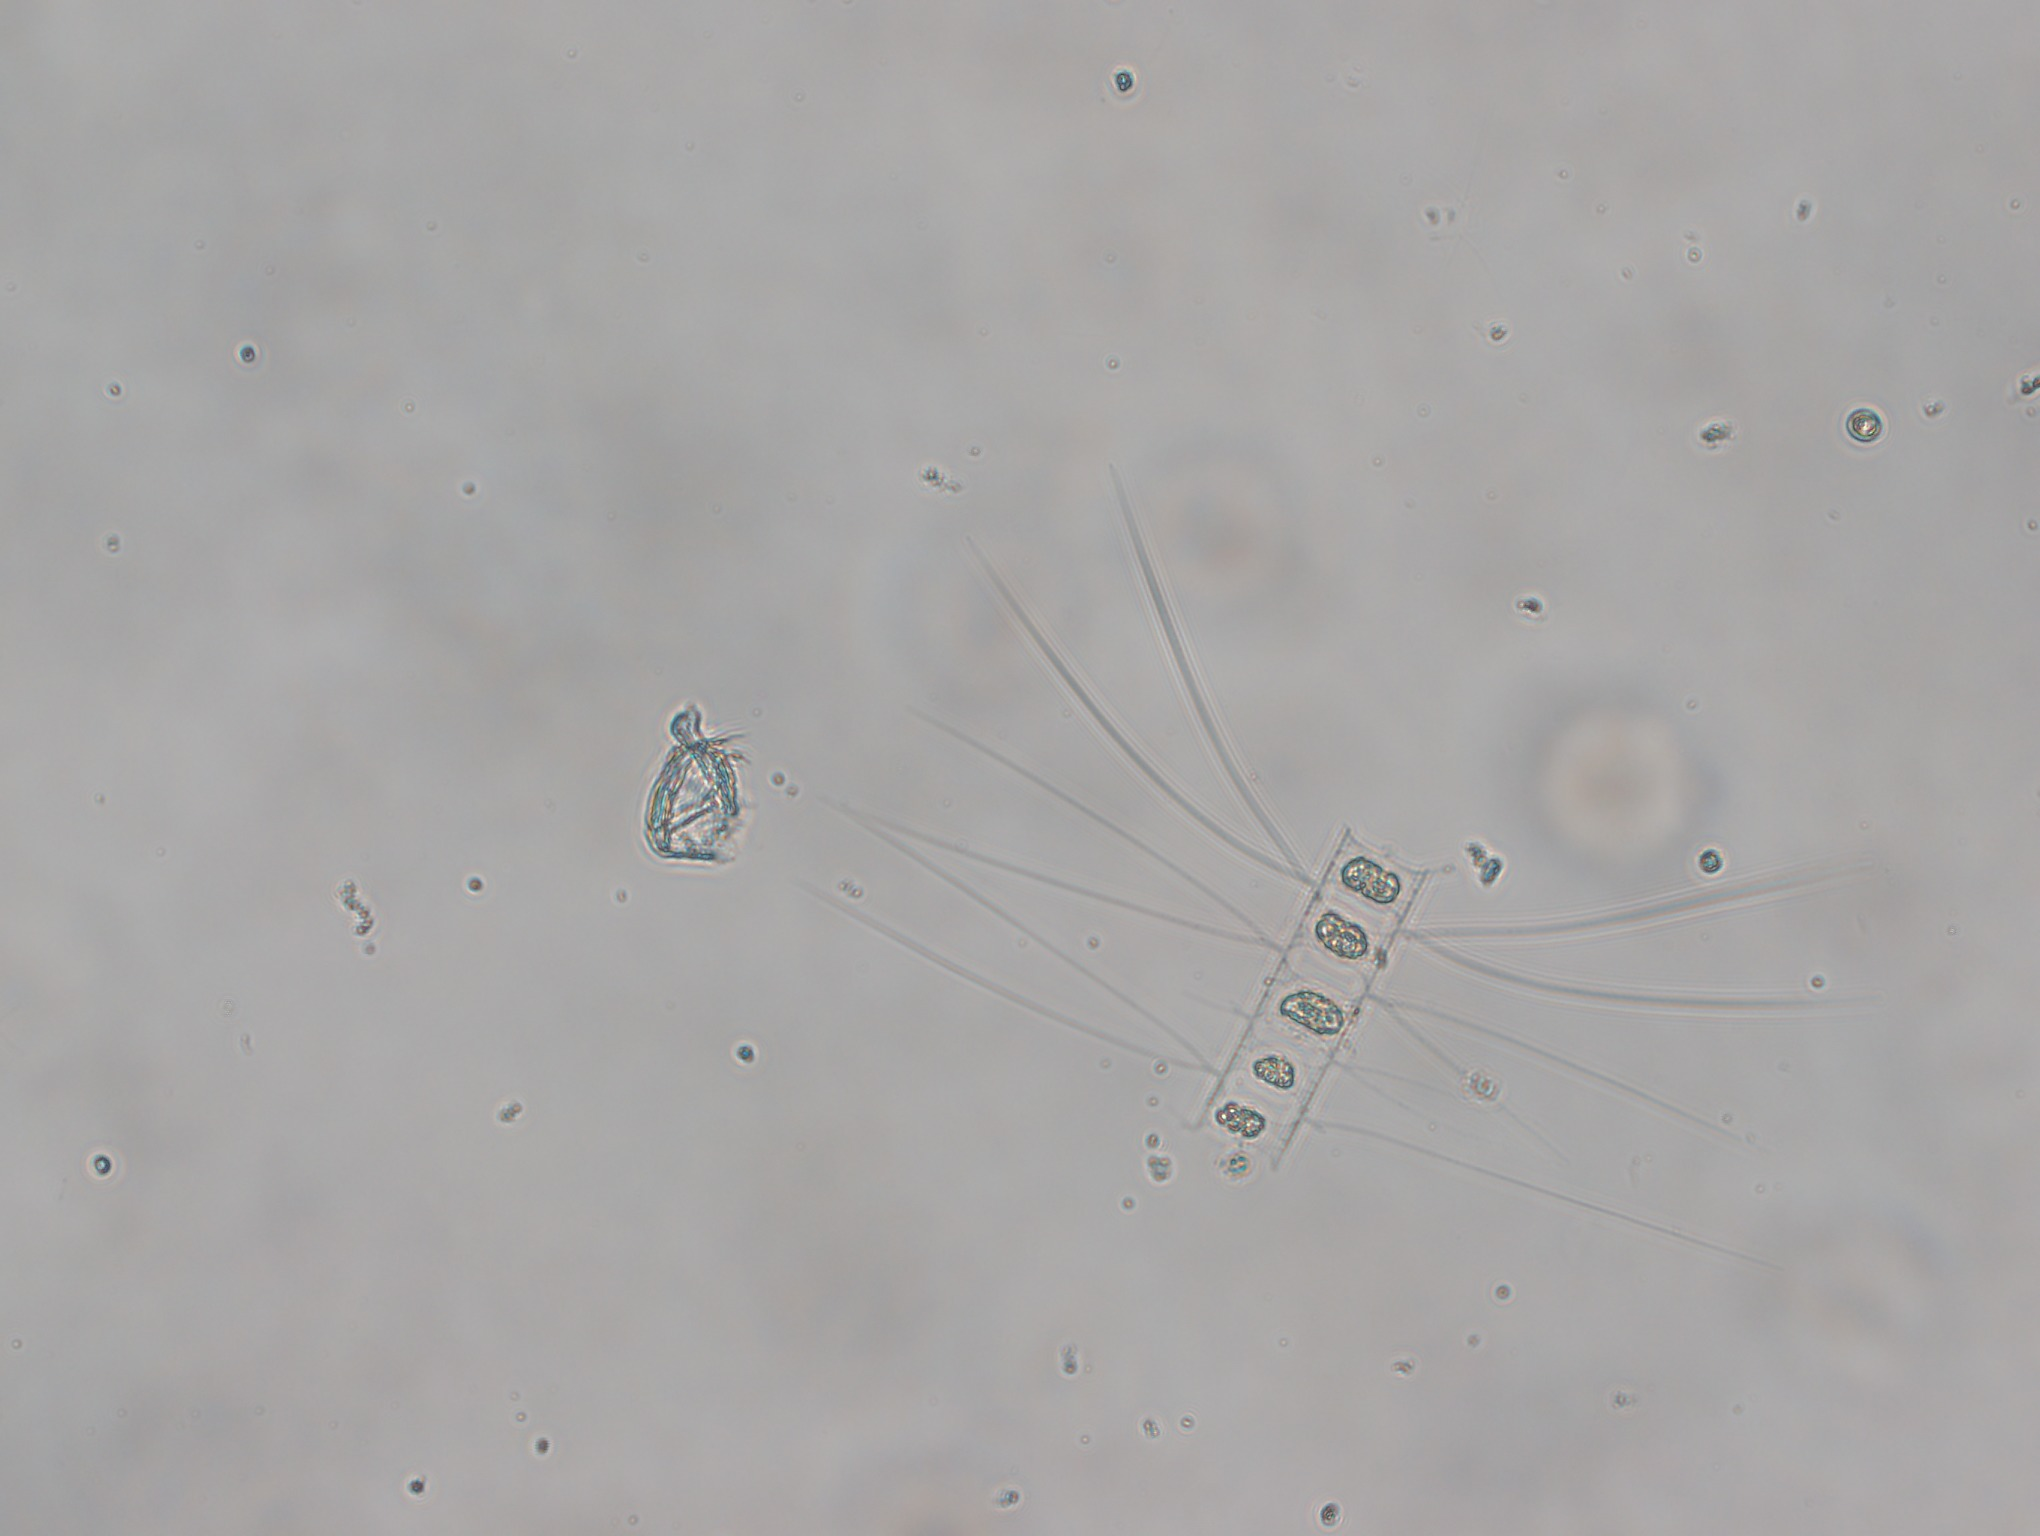chaetoceros: (810, 466, 1846, 1268)
